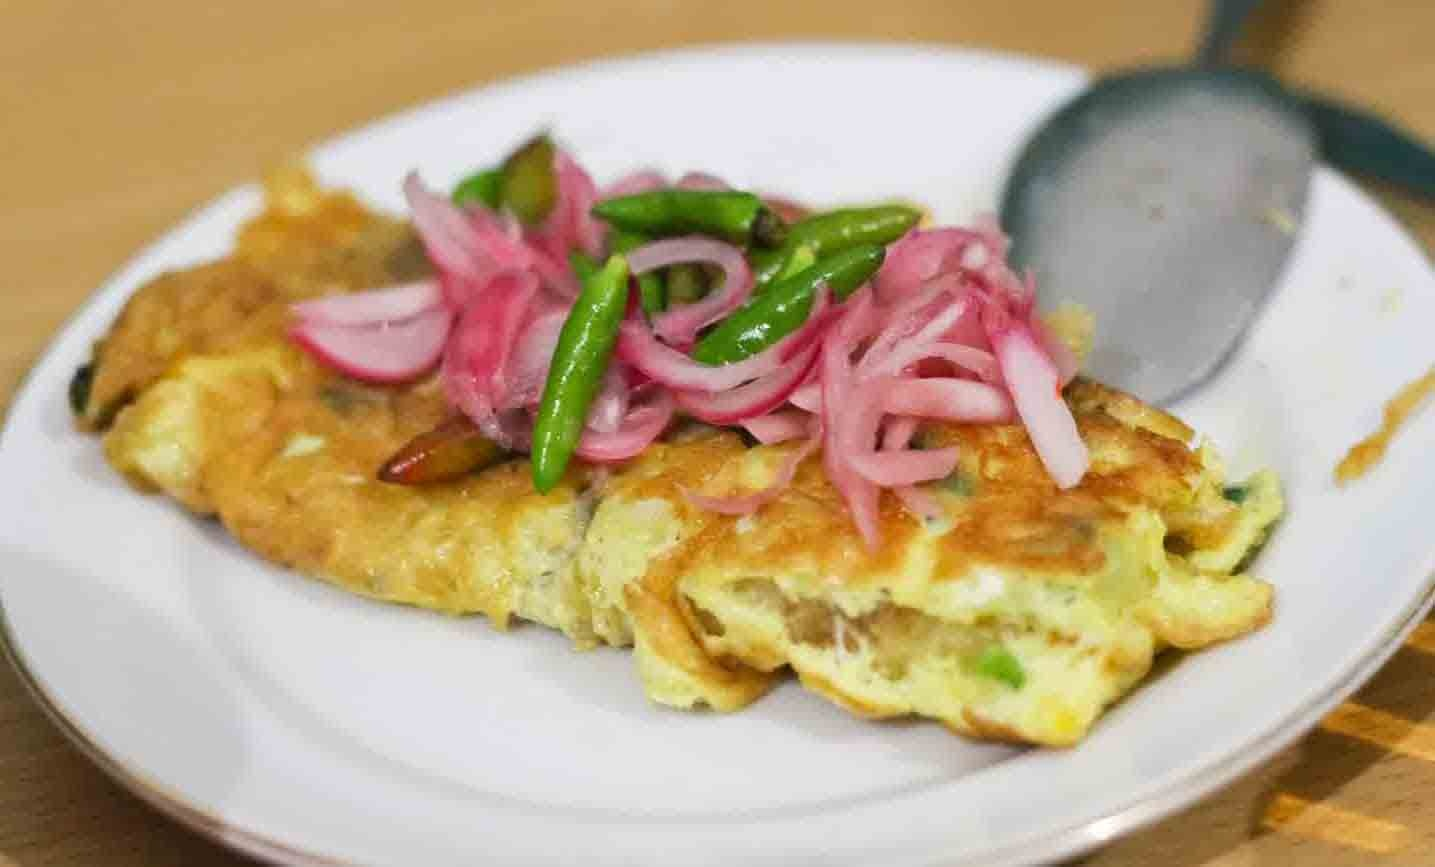martabak: (61, 131, 1280, 761)
